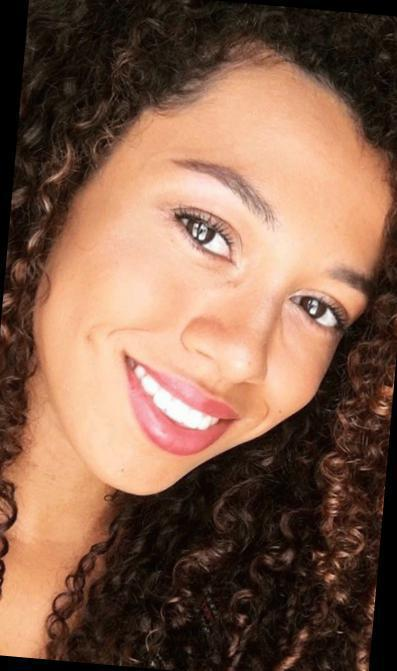Sober: (65, 112, 360, 465)
